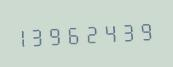four: (102, 19, 118, 45)
nine: (51, 21, 67, 47), (136, 17, 152, 43)
one: (17, 23, 33, 49)
six: (68, 20, 84, 47)
three: (34, 22, 50, 48), (119, 18, 135, 44)
two: (85, 20, 101, 46)
